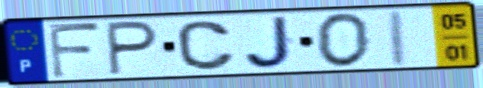C: (173, 19, 239, 72)
F: (46, 21, 105, 80)
I: (388, 8, 411, 69)
J: (241, 14, 298, 71)
O: (313, 11, 373, 69)
P: (105, 19, 161, 77)
